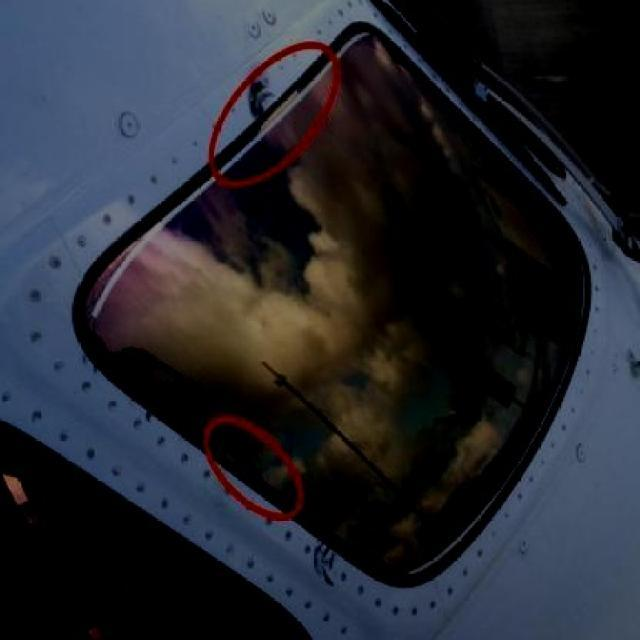crack: (314, 540, 337, 589)
